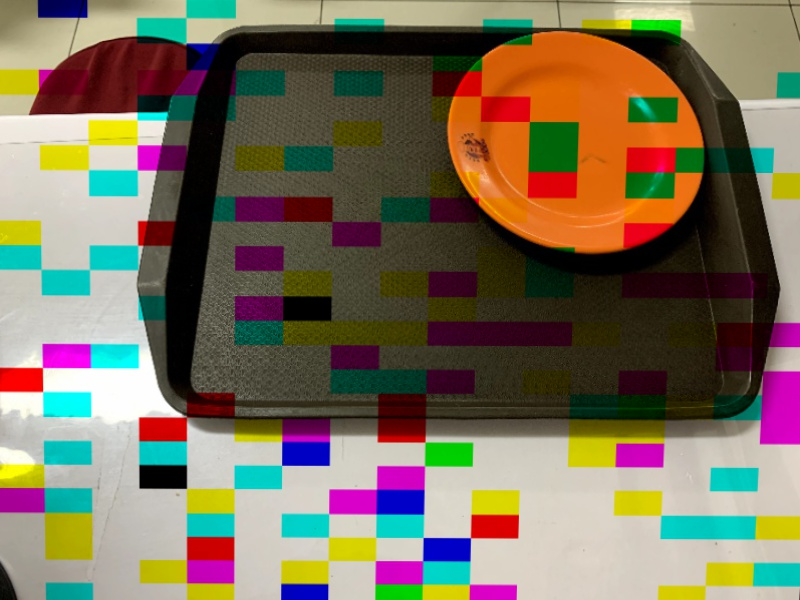dish10: (439, 27, 717, 261)
